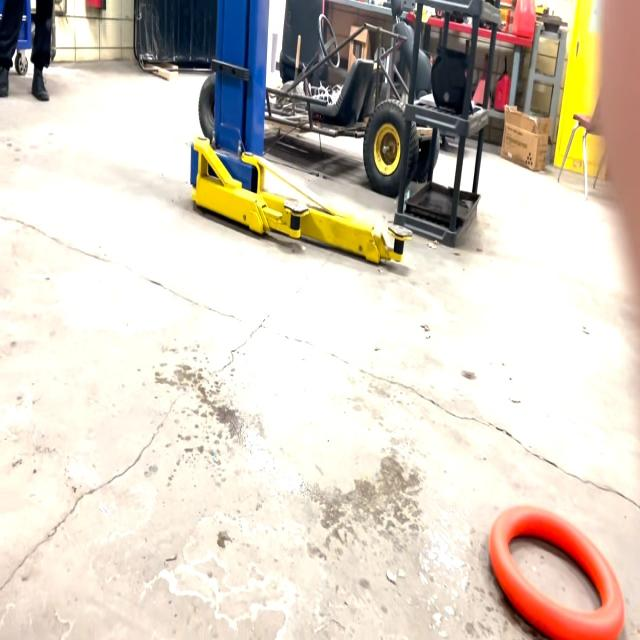note: (491, 501, 627, 640)
